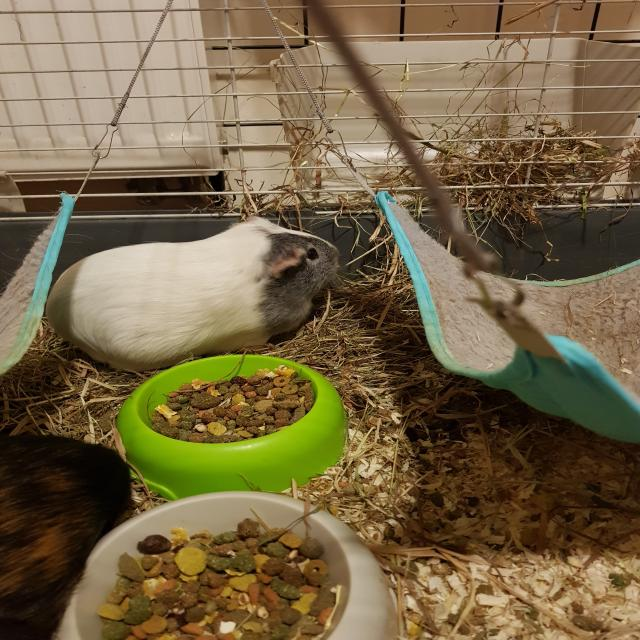guinea pig: (41, 215, 343, 376), (0, 421, 136, 640)
